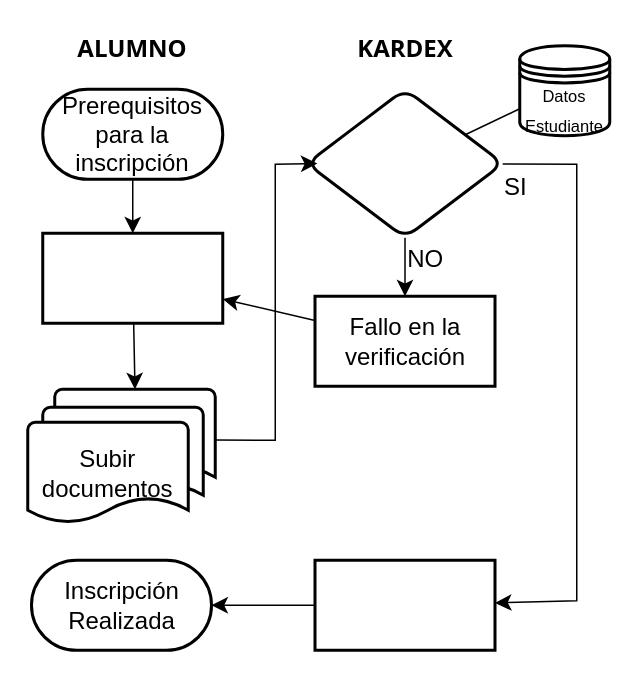
Image size: 636x677. Some labels were removed from this diagram. Here are the shapes that lost their labels. From the top down, the box of each, then its label:
(304, 87, 504, 238): Verificar Documentos
(40, 231, 224, 324): Alistar documentos
(313, 558, 496, 651): Nota de inscripción
